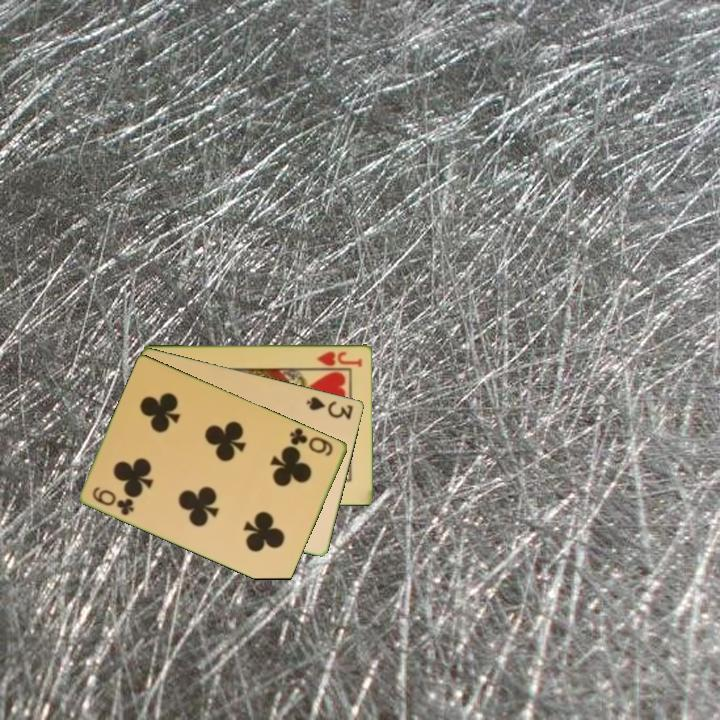3s: (303, 393, 356, 422)
6c: (89, 483, 137, 519), (287, 424, 336, 459)
Jh: (314, 348, 365, 369)
